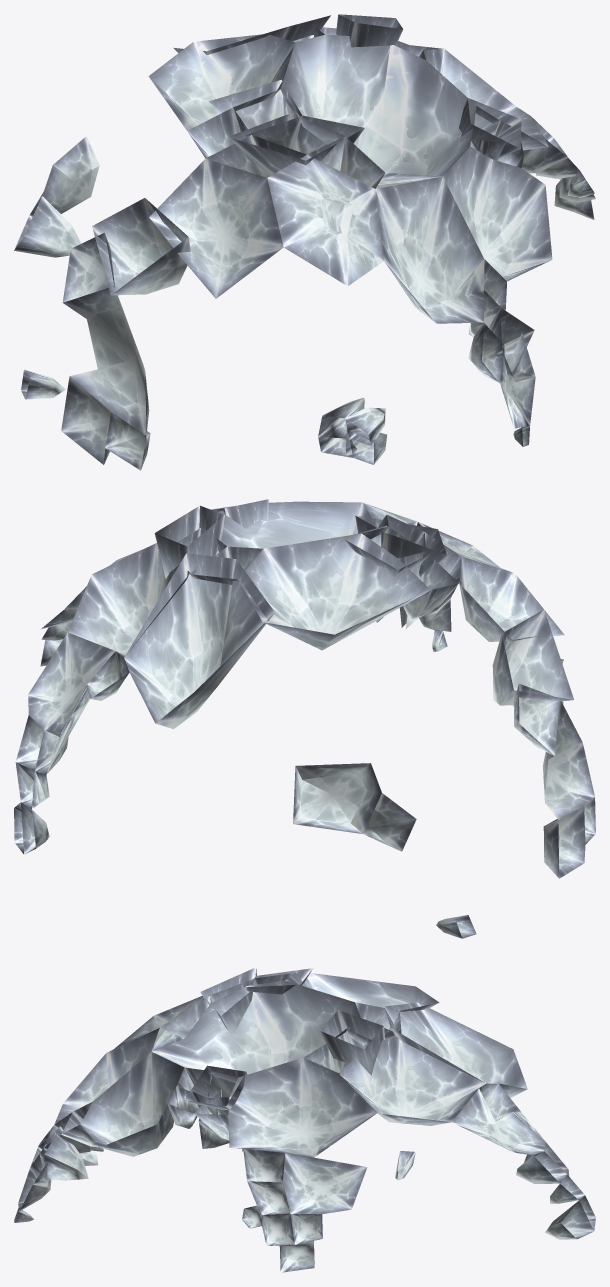
The model's file is ironforgecrystalroof.obj.
3 renders of one model, top to bottom at view 1: azimuth 30°, elevation 25°; view 2: azimuth 150°, elevation 25°; view 3: azimuth 270°, elevation 25°, orthographic. The views are drawn at different scales.
Parts seen in each view (by area): view 1: ironforgecrystalroof; view 2: ironforgecrystalroof; view 3: ironforgecrystalroof.
Boxes of the visible parts, <box> form: ironforgecrystalroof: <box>14,14,595,470</box>; ironforgecrystalroof: <box>14,499,595,938</box>; ironforgecrystalroof: <box>14,967,595,1272</box>.
Size of the model in its own units: 99.7 by 61.17 by 117.
1 material, 1 textured.
